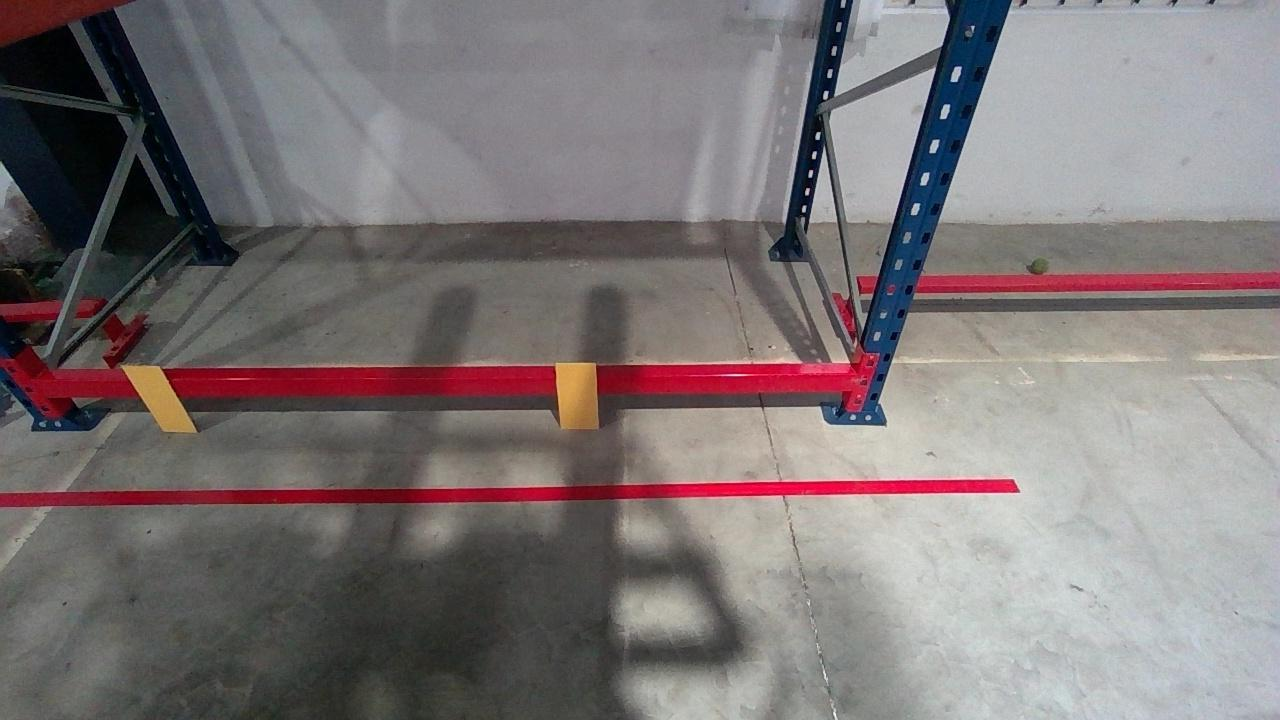h_rack: (27, 374, 864, 397)
orange_strip: (119, 367, 198, 433), (552, 362, 599, 429)
red_line: (4, 477, 1022, 505)
